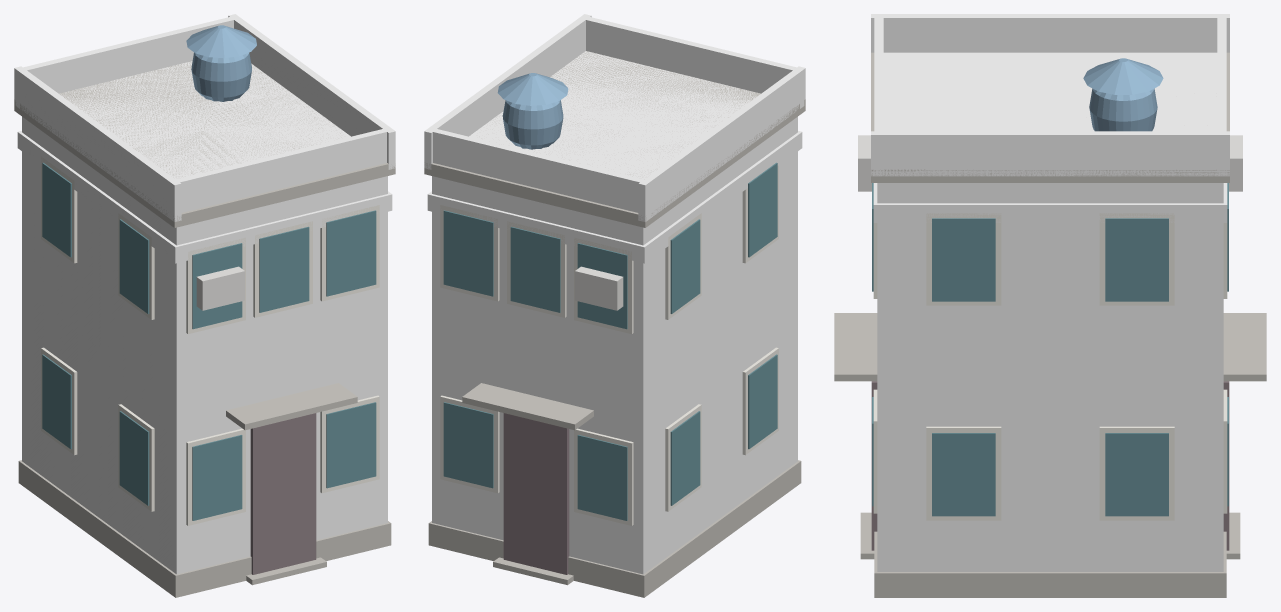
The model's file is predio2.glb.
3 renders of one model, left to right at view 1: azimuth 30°, elevation 25°; view 2: azimuth 150°, elevation 25°; view 3: azimuth 270°, elevation 25°, orthographic. The views are drawn at different scales.
Parts seen in each view (by area): view 1: Predio2; view 2: Predio2; view 3: Predio2.
Part boxes in pixels (x1,y1,x2,y2): Predio2: (14,14,395,597); Predio2: (424,14,805,597); Predio2: (834,14,1266,597).
Size of the model in its own units: 3.14 by 6.12 by 4.74.
